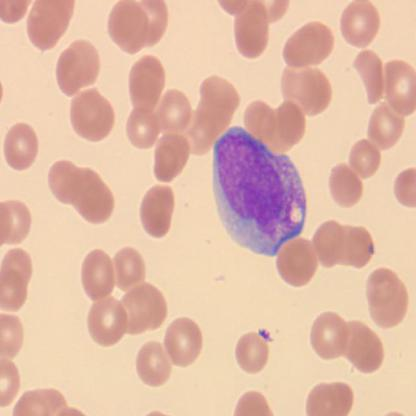Promyelocyte: (211, 127, 307, 259)
